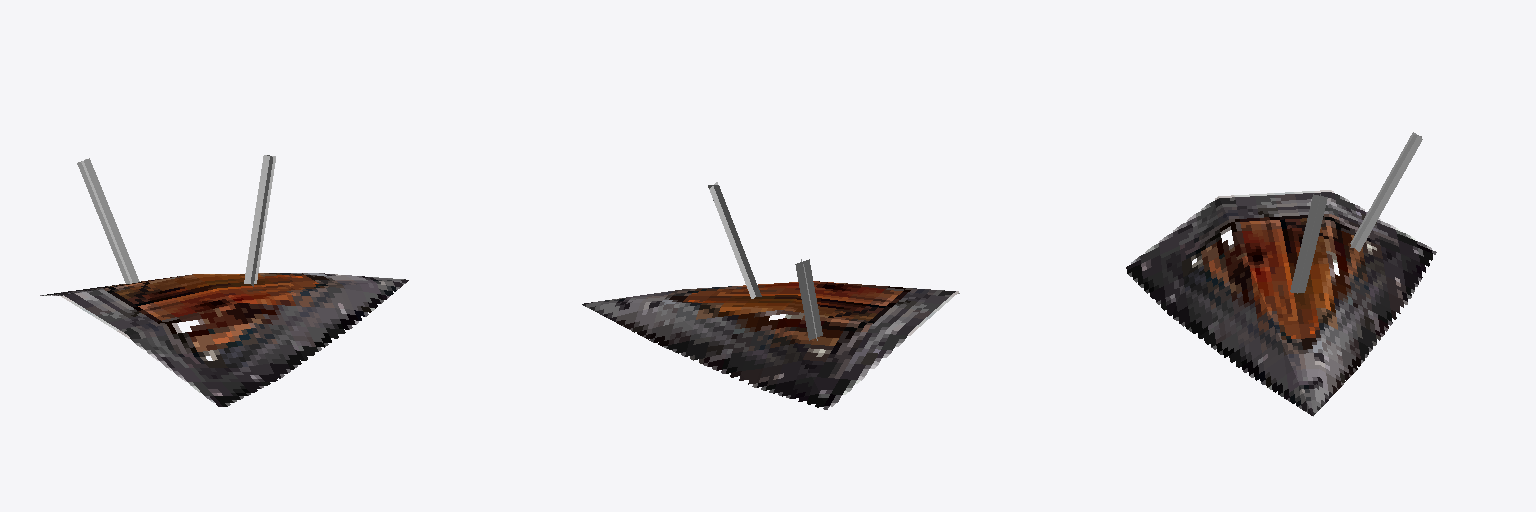
3 renders of one model, left to right at view 1: azimuth 30°, elevation 25°; view 2: azimuth 150°, elevation 25°; view 3: azimuth 270°, elevation 25°, orthographic.
Parts seen in each view (by area): view 1: object 1; view 2: object 1; view 3: object 1.
Boxes of the visible parts, x1,y1,x2,y2 form: object 1: [40, 155, 408, 406]; object 1: [582, 182, 959, 409]; object 1: [1126, 132, 1436, 416].
Bounding box in the file's own units: 1.49 × 0.6573 × 1.19.
2 materials, 1 textured.